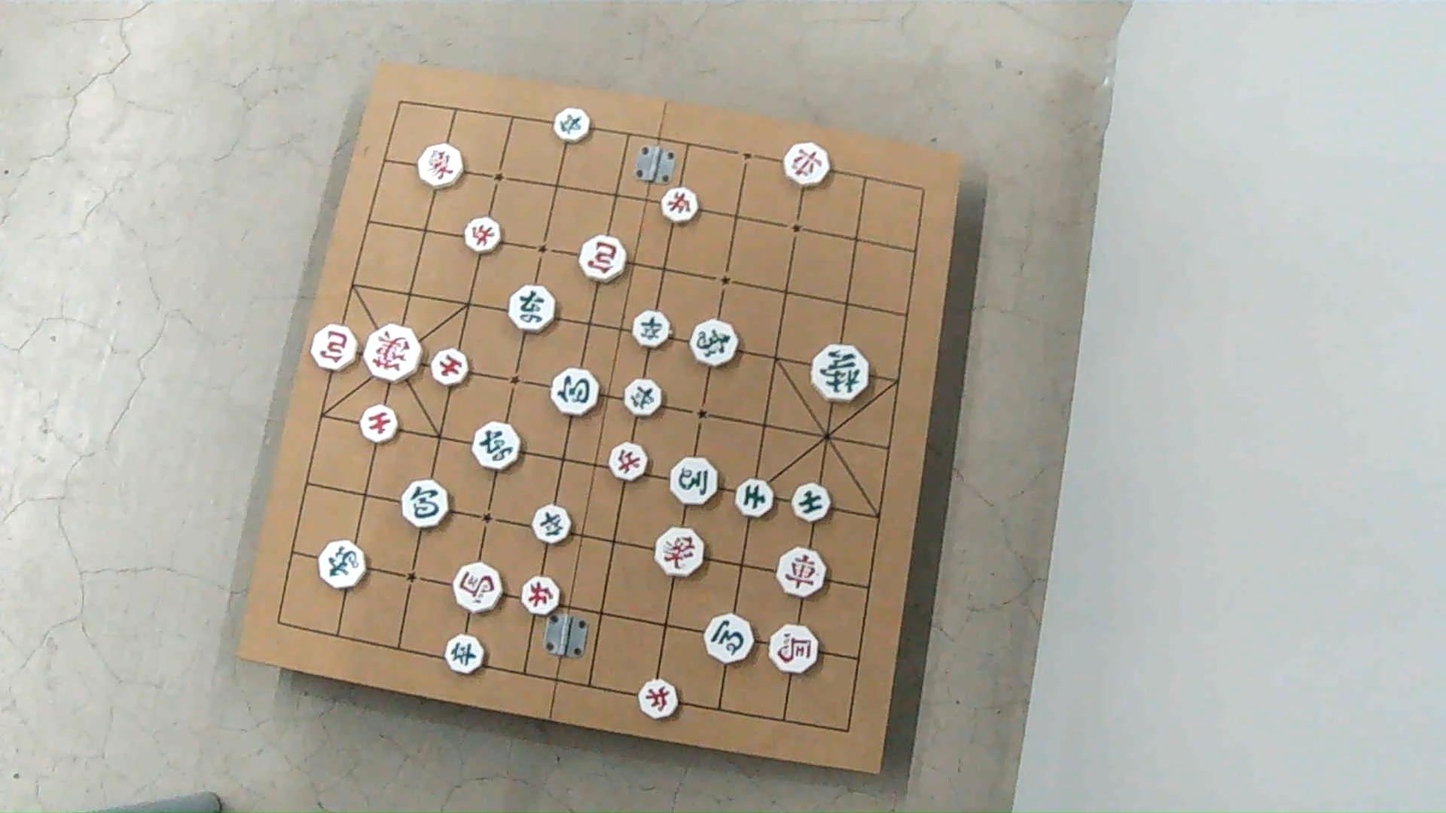cha_green: (471, 423, 519, 472), (510, 287, 557, 334)
cha_red: (778, 550, 826, 600), (783, 142, 829, 186)
jol_green: (445, 635, 485, 673), (529, 506, 567, 544), (624, 379, 662, 417), (632, 310, 670, 347), (552, 109, 589, 144)
jol_red: (640, 678, 679, 718), (524, 575, 563, 614), (611, 442, 648, 480), (661, 188, 699, 224), (465, 216, 502, 252)
ma_green: (703, 614, 752, 664), (672, 456, 719, 504)
ma_red: (770, 625, 819, 674), (454, 564, 502, 614)
po_green: (551, 370, 599, 418), (399, 480, 447, 528)
po_red: (581, 237, 628, 283), (311, 324, 358, 370)
sa_green: (791, 483, 829, 522), (739, 479, 777, 517)
sa_red: (432, 349, 470, 387), (356, 407, 395, 444)
sang_green: (690, 321, 738, 369), (318, 542, 365, 591)
sang_red: (658, 528, 706, 577), (416, 144, 460, 187)
wang_green: (813, 344, 871, 401)
wang_red: (365, 325, 423, 382)
